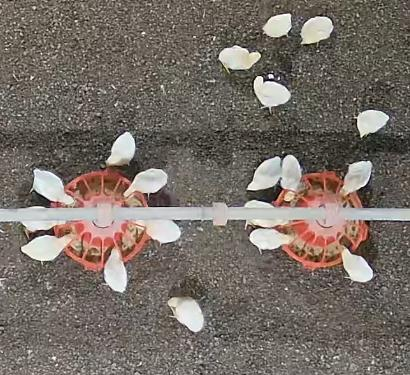chick: (29, 166, 74, 205), (21, 233, 74, 264), (19, 204, 65, 238), (254, 75, 291, 115), (167, 295, 207, 332), (339, 245, 374, 285), (135, 218, 182, 246), (218, 44, 261, 74), (250, 225, 291, 256), (245, 156, 282, 190), (103, 247, 129, 295), (125, 168, 168, 197), (341, 158, 374, 195), (241, 201, 286, 228), (105, 131, 136, 165), (355, 109, 389, 138), (301, 16, 334, 45), (262, 12, 292, 40), (281, 154, 302, 194)
rice: (271, 169, 371, 269), (52, 168, 149, 271)
